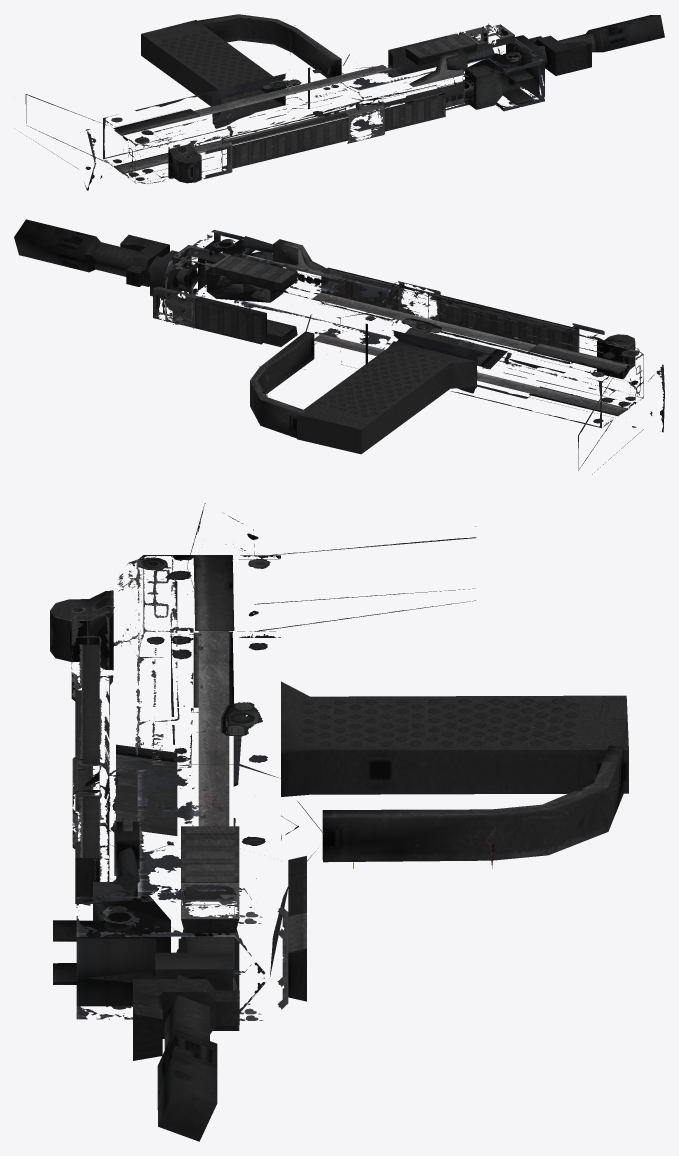
File: t6_wpn_smg_msmc_world_LOD1.obj
The picture shows the model from 3 angles, top to bottom: view 1: azimuth 30°, elevation 25°; view 2: azimuth 150°, elevation 25°; view 3: azimuth 270°, elevation 25°; orthographic projection. The views are drawn at different scales.
Visible parts, largest first — view 1: mtl_t6_wpn_smg_msmc_camo1, mtl_t6_wpn_smg_msmc_camo2, mtl_t6_wpn_smg_msmc_camo3; view 2: mtl_t6_wpn_smg_msmc_camo2, mtl_t6_wpn_smg_msmc_camo1, mtl_t6_wpn_smg_msmc_camo3; view 3: mtl_t6_wpn_smg_msmc_camo2, mtl_t6_wpn_smg_msmc_camo1, mtl_t6_wpn_smg_msmc_camo3.
Part boxes in pixels (box(x1,y1,x2,y2)): mtl_t6_wpn_smg_msmc_camo1: box(106, 23, 603, 183); mtl_t6_wpn_smg_msmc_camo2: box(14, 20, 544, 190); mtl_t6_wpn_smg_msmc_camo3: box(113, 14, 664, 173); mtl_t6_wpn_smg_msmc_camo2: box(160, 229, 664, 474); mtl_t6_wpn_smg_msmc_camo1: box(84, 236, 643, 415); mtl_t6_wpn_smg_msmc_camo3: box(14, 219, 628, 438); mtl_t6_wpn_smg_msmc_camo2: box(71, 503, 628, 1019); mtl_t6_wpn_smg_msmc_camo1: box(50, 555, 306, 1141); mtl_t6_wpn_smg_msmc_camo3: box(111, 555, 624, 1125).
Bounding box in the file's own units: 50.34 × 5.58 × 22.09.
